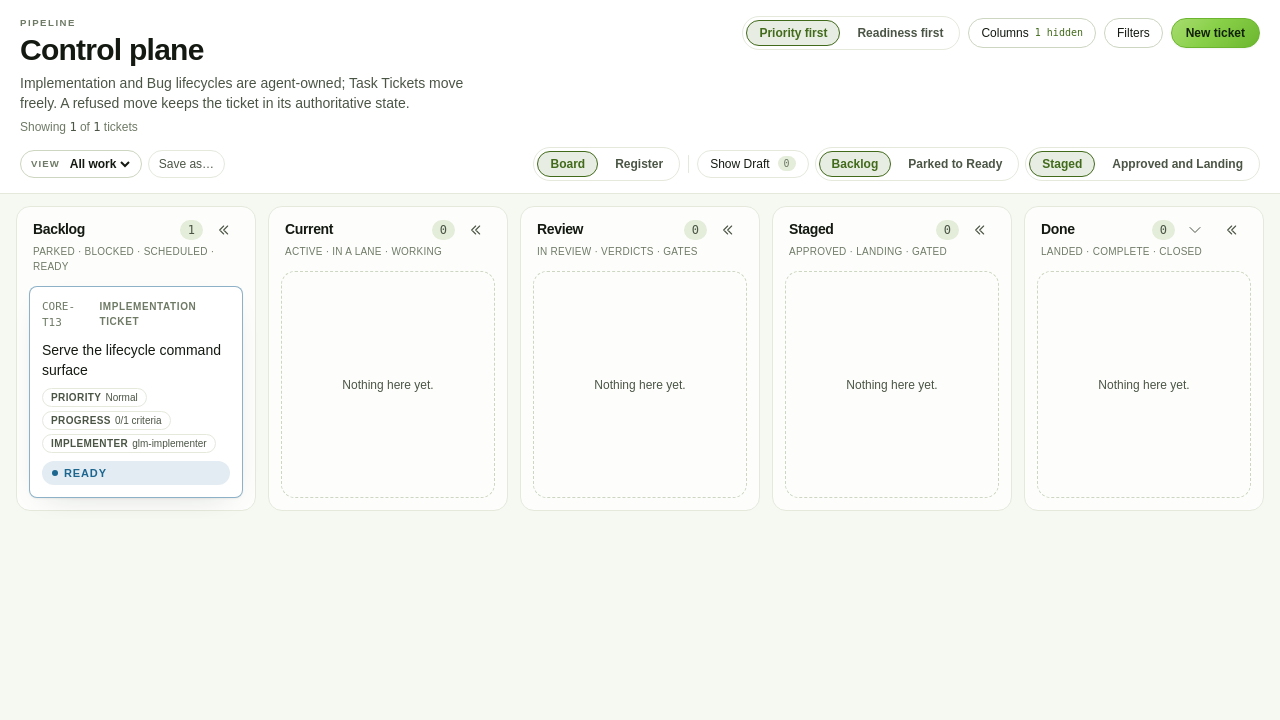
Scenario: the drawer footer actions › Park runs ticket.park at the open version and follows the record back
The image size is (1280, 720).
Click the button with test id "open-ticket-8".
click(136, 360)  # box x1=42 y1=340 x2=230 y2=380
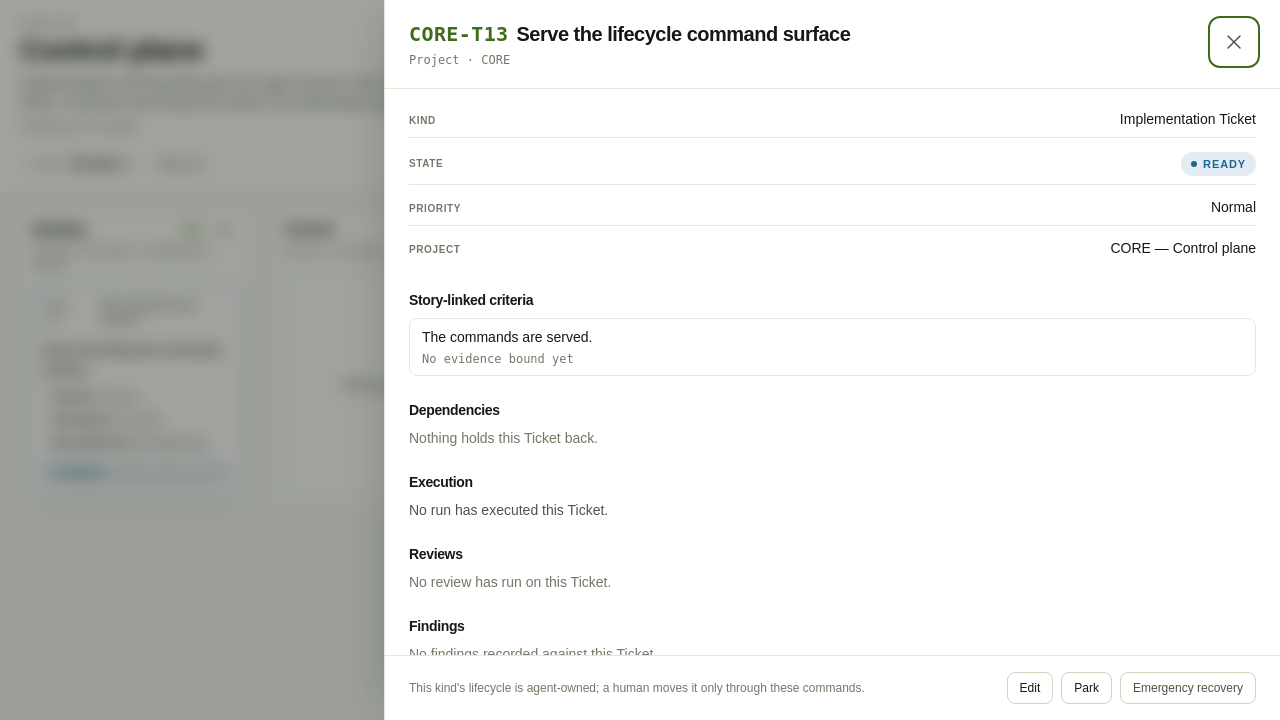
Click the button "Park".
click(1087, 688)  # box x1=1061 y1=672 x2=1112 y2=704
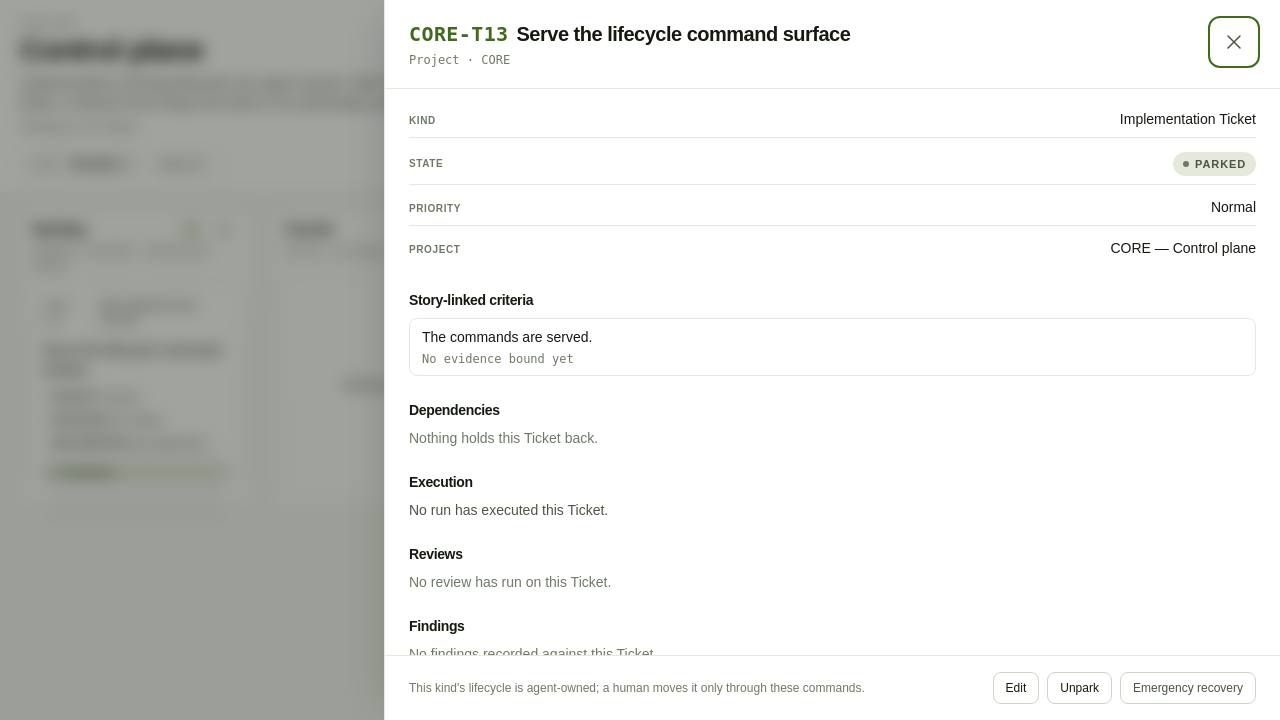
Now the element with test id "drawer-state" reads "Parked", box x1=1195 y1=158 x2=1246 y2=170
Now the button with test id "drawer-unpark" is shown, box x1=1047 y1=672 x2=1112 y2=704
